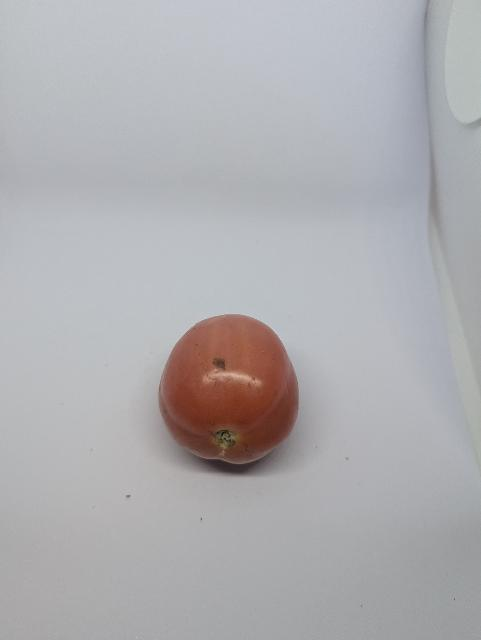red: (155, 306, 313, 473)
